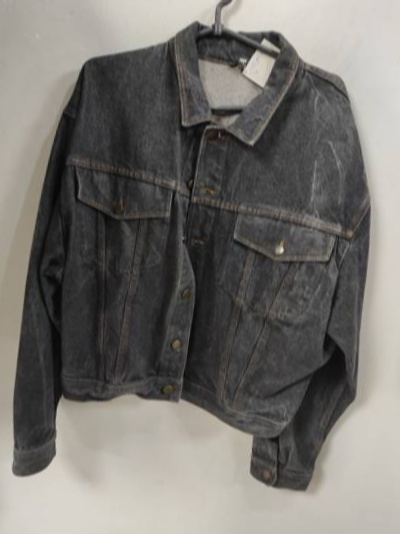Blazer: (0, 14, 400, 512), (398, 65, 400, 534)
